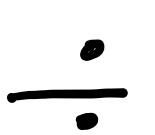div: (6, 39, 128, 130)
